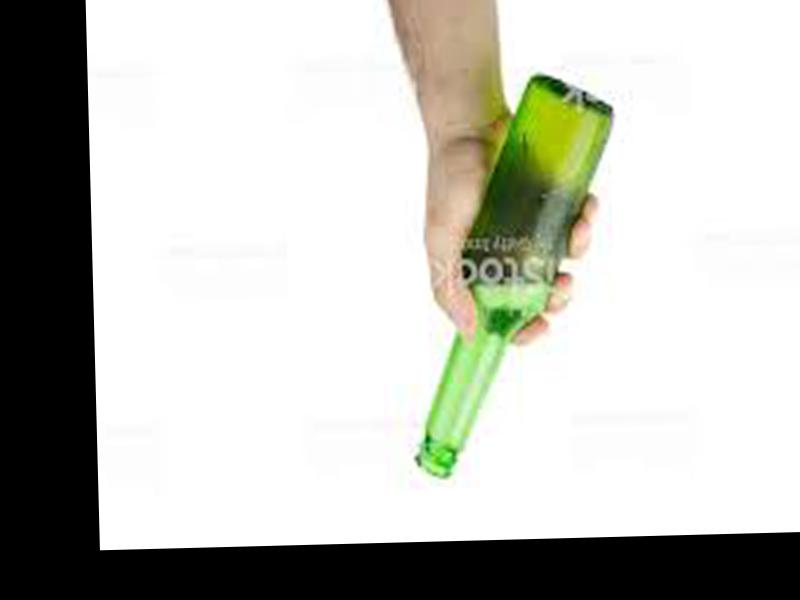Beer: (404, 77, 624, 482)
